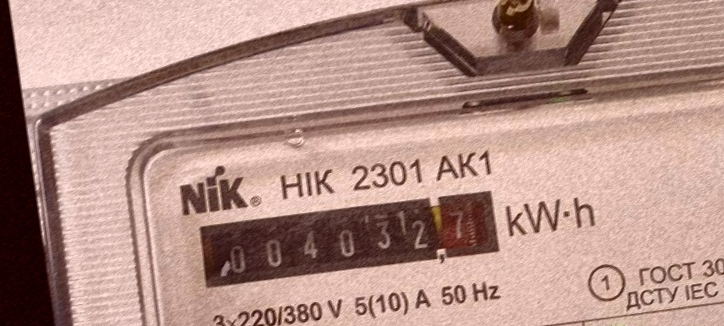0: (336, 226, 360, 262), (227, 242, 251, 277), (263, 237, 287, 272)
2: (410, 217, 432, 253)
3: (374, 219, 396, 253)
4: (299, 228, 324, 267)
7: (450, 209, 471, 244)
screen: (189, 178, 512, 308)
